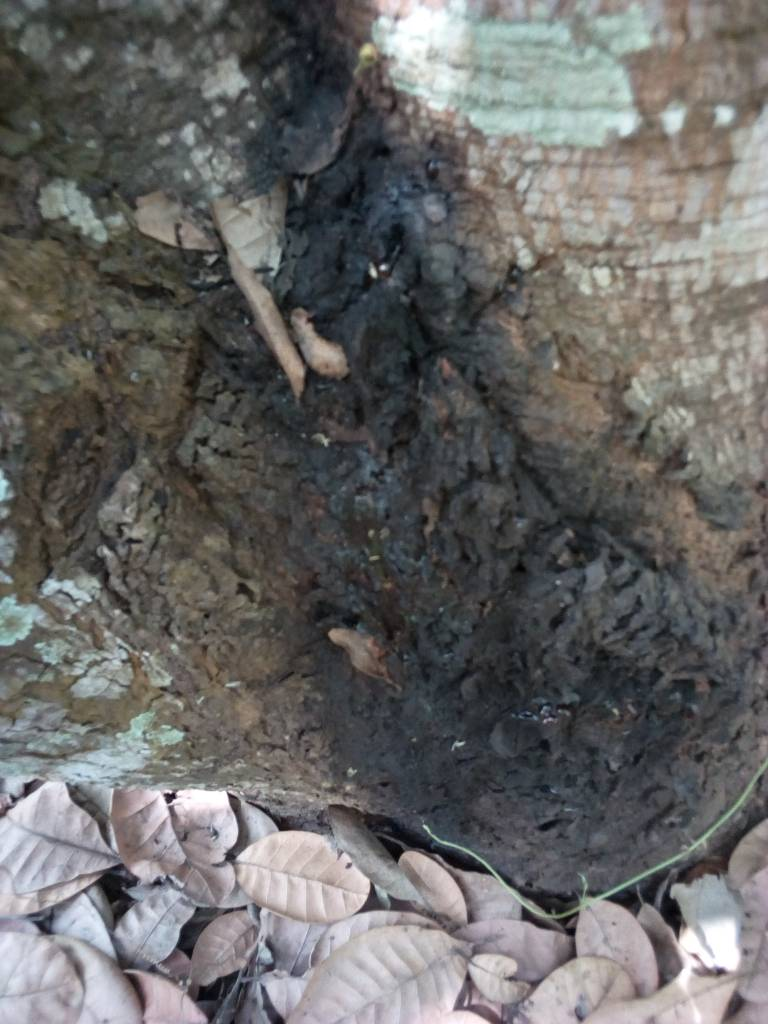Gommose: (244, 186, 752, 864)
